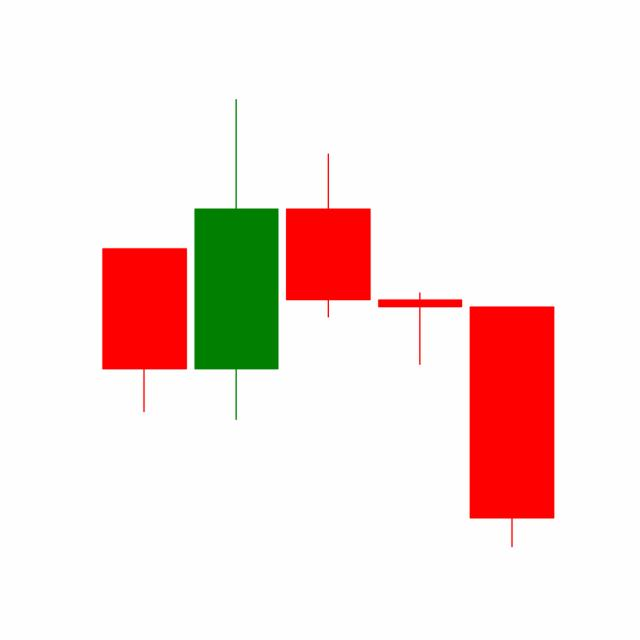Spinning Top: (373, 290, 467, 366)
